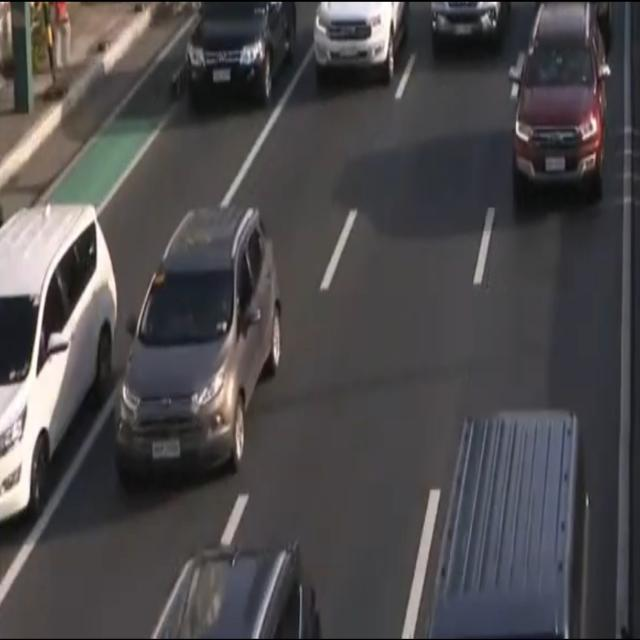SUV: (120, 206, 288, 486), (0, 203, 118, 527), (509, 0, 609, 203), (134, 543, 330, 640), (179, 0, 299, 120), (309, 0, 408, 87)
Van: (417, 404, 590, 640)
